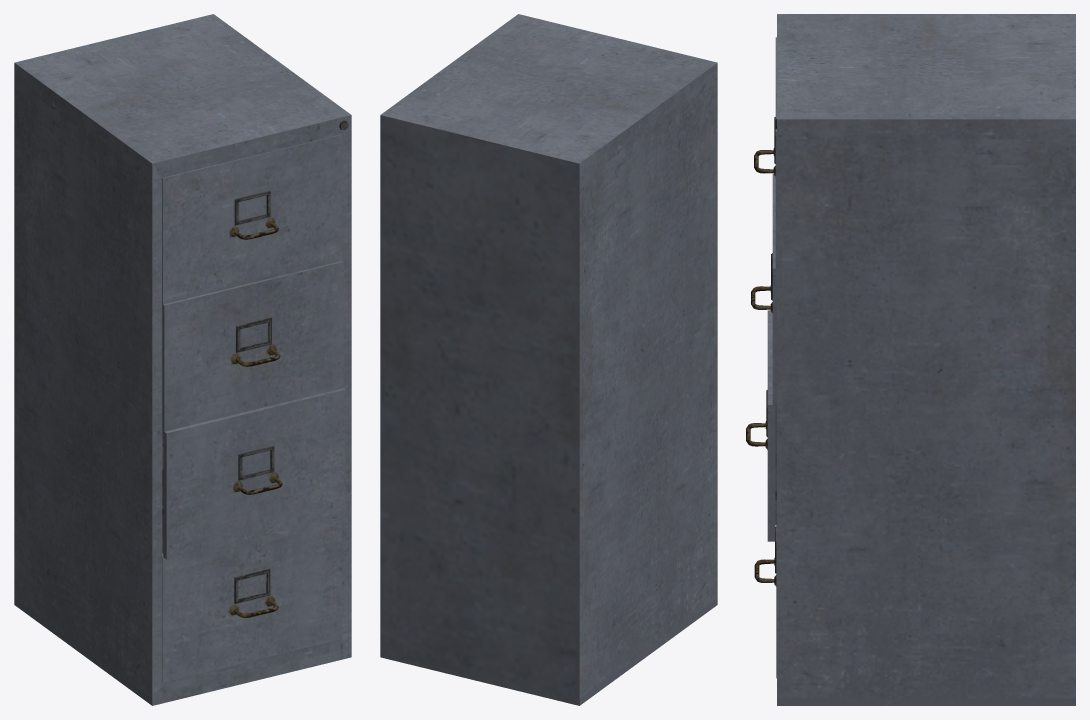
File: 047_FilingCabinet.fbx
3 views of the same model, side by side, from view 1: azimuth 30°, elevation 25°; view 2: azimuth 150°, elevation 25°; view 3: azimuth 270°, elevation 25° (orthographic). The views are drawn at different scales.
Visible parts, largest first — view 1: LOD_1_Group_0_Sub_1__sm30_047_FilingCabinet01B_A_Mat, LOD_1_Group_5_Sub_1__sm30_047_FilingCabinet01B_A_Mat, LOD_1_Group_1_Sub_1__sm30_047_FilingCabinet01B_A_Mat, LOD_1_Group_2_Sub_1__sm30_047_FilingCabinet01B_A_Mat, LOD_1_Group_6_Sub_1__sm30_047_FilingCabinet01B_A_Mat; view 2: LOD_1_Group_0_Sub_1__sm30_047_FilingCabinet01B_A_Mat; view 3: LOD_1_Group_0_Sub_1__sm30_047_FilingCabinet01B_A_Mat, LOD_1_Group_5_Sub_1__sm30_047_FilingCabinet01B_A_Mat, LOD_1_Group_1_Sub_1__sm30_047_FilingCabinet01B_A_Mat, LOD_1_Group_2_Sub_1__sm30_047_FilingCabinet01B_A_Mat.
Boxes of the visible parts, x1,y1,x2,y2 form: LOD_1_Group_0_Sub_1__sm30_047_FilingCabinet01B_A_Mat: (14, 14, 351, 705); LOD_1_Group_5_Sub_1__sm30_047_FilingCabinet01B_A_Mat: (162, 388, 345, 559); LOD_1_Group_1_Sub_1__sm30_047_FilingCabinet01B_A_Mat: (162, 261, 343, 431); LOD_1_Group_2_Sub_1__sm30_047_FilingCabinet01B_A_Mat: (162, 134, 342, 304); LOD_1_Group_6_Sub_1__sm30_047_FilingCabinet01B_A_Mat: (162, 517, 341, 682); LOD_1_Group_0_Sub_1__sm30_047_FilingCabinet01B_A_Mat: (380, 14, 717, 705); LOD_1_Group_0_Sub_1__sm30_047_FilingCabinet01B_A_Mat: (775, 14, 1075, 705); LOD_1_Group_5_Sub_1__sm30_047_FilingCabinet01B_A_Mat: (746, 310, 776, 541); LOD_1_Group_1_Sub_1__sm30_047_FilingCabinet01B_A_Mat: (751, 174, 776, 404); LOD_1_Group_2_Sub_1__sm30_047_FilingCabinet01B_A_Mat: (754, 37, 776, 268).
Bounding box in the file's own units: 0.5 × 1.3 × 0.6623.
